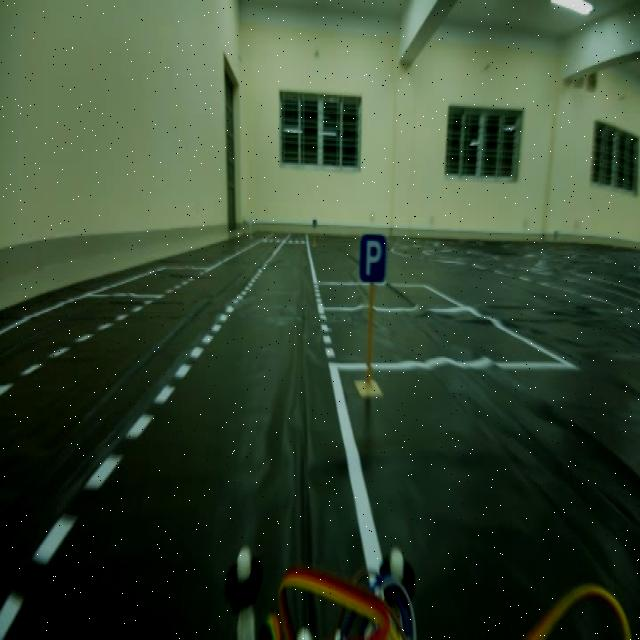parking: (352, 226, 395, 298)
